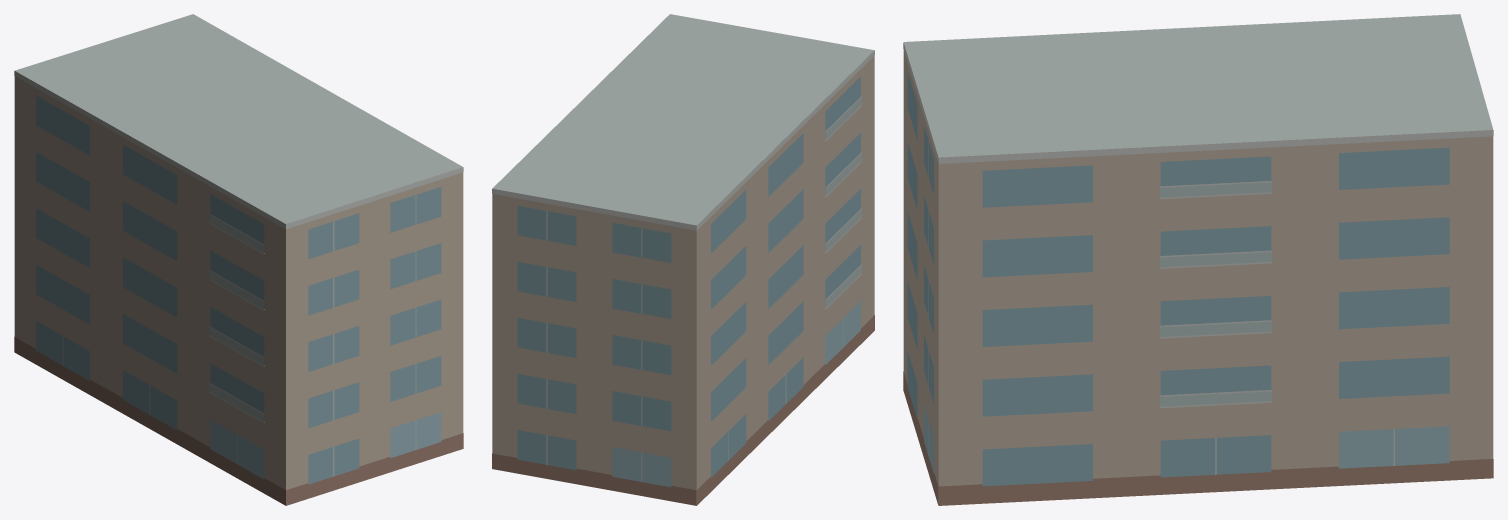
File: survey-upis-32734529.glb
The picture shows the model from 3 angles, left to right: view 1: azimuth 30°, elevation 25°; view 2: azimuth 150°, elevation 25°; view 3: azimuth 270°, elevation 25°; orthographic projection. The views are drawn at different scales.
Visible parts, largest first — view 1: survey-upis-32734529.tmp; view 2: survey-upis-32734529.tmp; view 3: survey-upis-32734529.tmp.
Boxes of the visible parts, x1,y1,x2,y2 form: survey-upis-32734529.tmp: [14, 14, 463, 505]; survey-upis-32734529.tmp: [492, 14, 874, 505]; survey-upis-32734529.tmp: [903, 14, 1493, 505].
Size of the model in its own units: 11.77 by 13.3 by 20.43.
